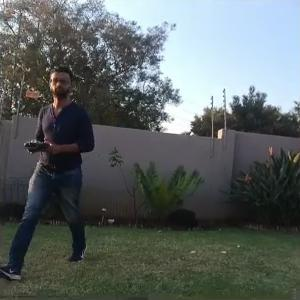follow: (0, 62, 98, 282)
